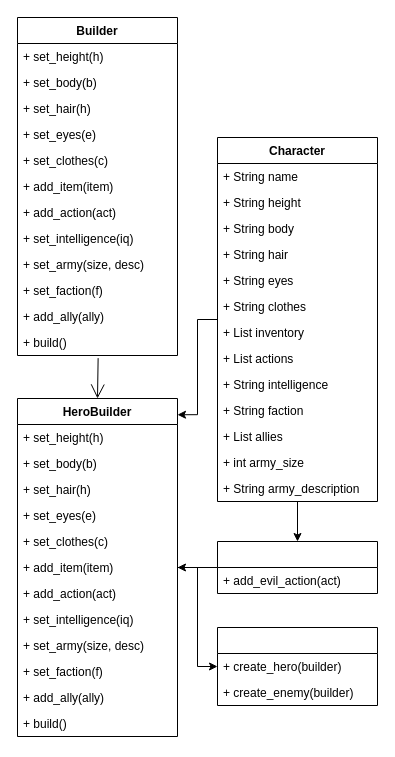
The diagram is 395 pixels wide and 757 high, and some of its shapes have lost their labels. Each missing label, with the box of its shape:
EnemyBuilder: (216, 540, 378, 594)
GO: (216, 626, 378, 706)
